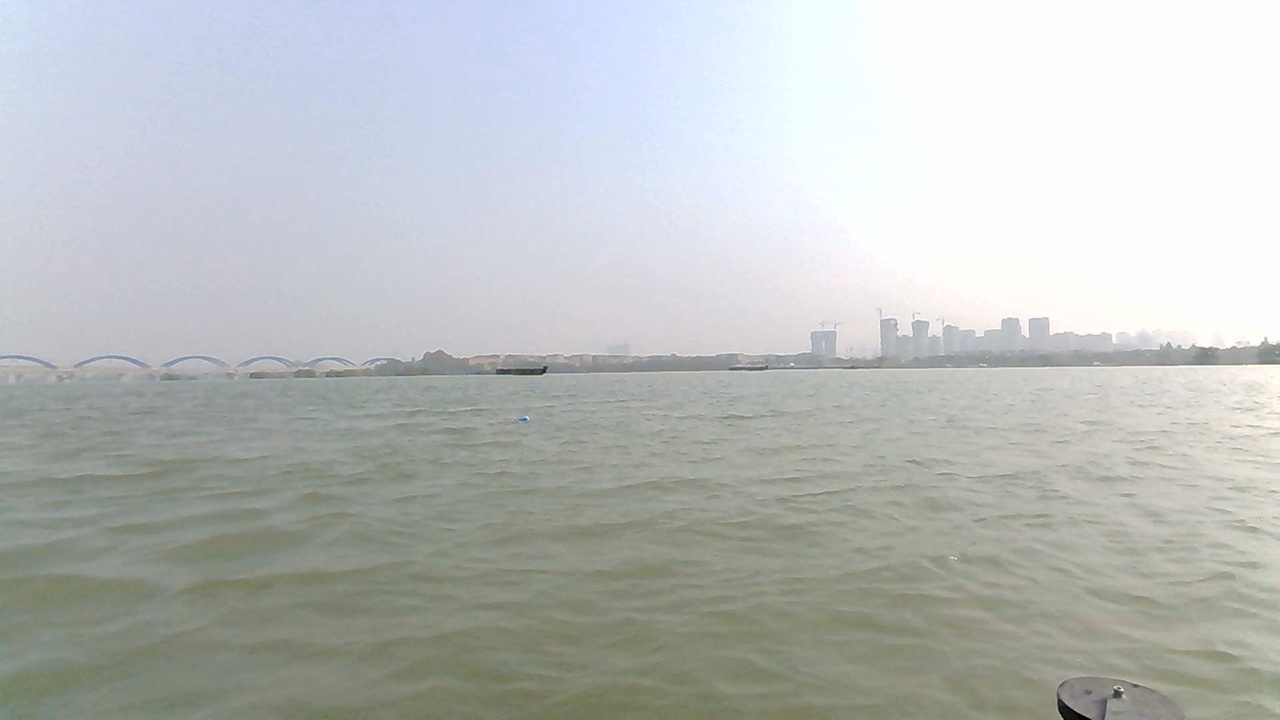bottle: (508, 413, 537, 427)
